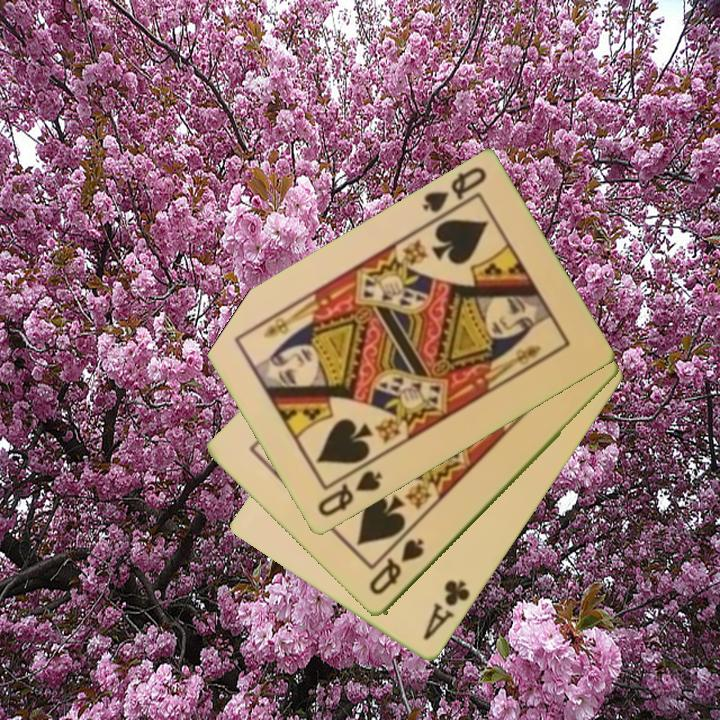Ac: (419, 577, 474, 644)
Qs: (418, 164, 490, 226), (365, 535, 428, 599), (314, 467, 386, 521)
